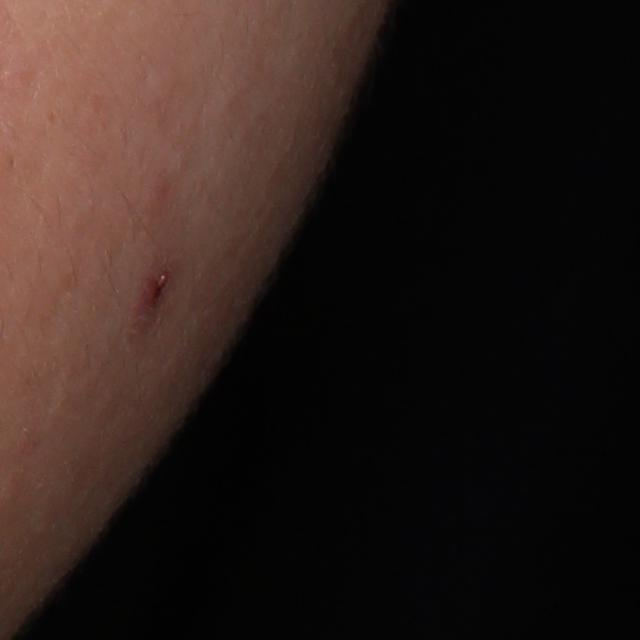papule: (123, 262, 175, 342)
